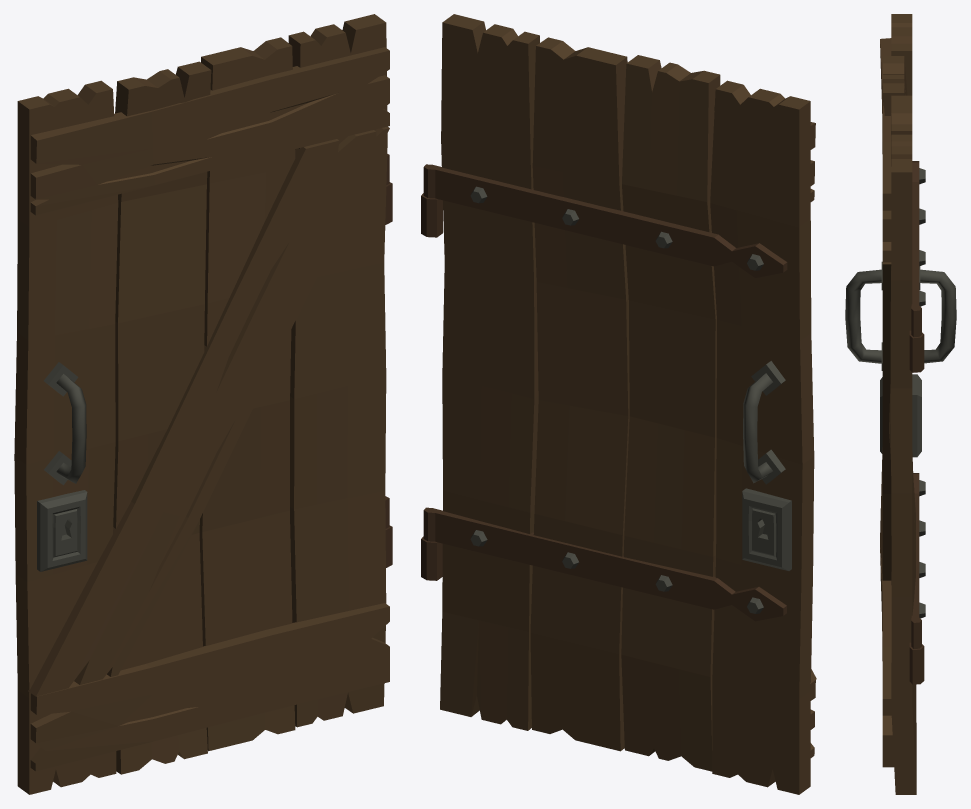
Rendered from wood_door_rectangle_R.gltf.
3 renders of one model, left to right at view 1: azimuth 30°, elevation 25°; view 2: azimuth 150°, elevation 25°; view 3: azimuth 270°, elevation 25°, orthographic. The views are drawn at different scales.
Visible parts, largest first — view 1: Door_Basement_Right; view 2: Door_Basement_Right; view 3: Door_Basement_Right.
Part boxes in pixels (x1=…): Door_Basement_Right: x1=14, y1=14, x2=392, y2=794; Door_Basement_Right: x1=421, y1=14, x2=816, y2=794; Door_Basement_Right: x1=845, y1=14, x2=956, y2=794.
Size of the model in its own units: 1.23 by 2.13 by 0.3459.
2 materials, 2 textured.
